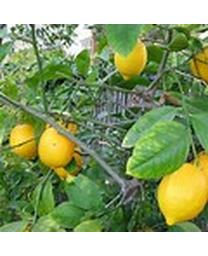lemon: (156, 163, 207, 227), (38, 126, 76, 170), (113, 38, 147, 82), (9, 123, 40, 159)
